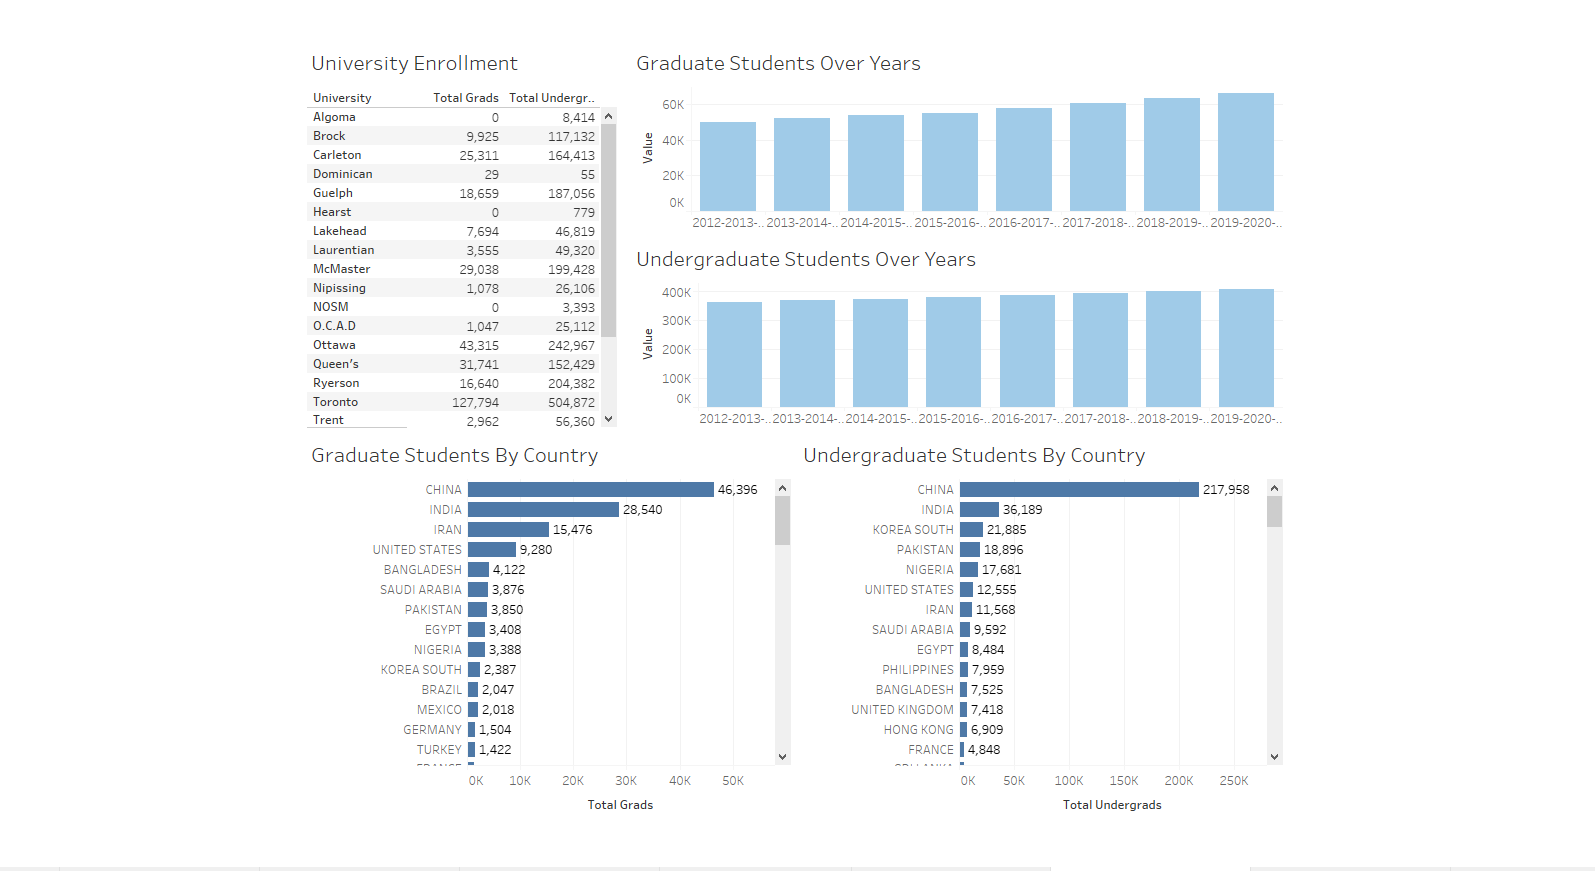

What the dashboard file says about the page in this screenshot:
{"tool":"tableau","page":{"name":"Enrollment by Country and University","canvas":[1000,800],"ordinal":0},"visuals":[{"type":"worksheet","title":"University Enrollment","mark":"Automatic","box":[8,8,325,392]},{"type":"worksheet","title":"Graduate Students Over Years","mark":"Automatic","box":[333,8,659,196]},{"type":"worksheet","title":"Undergraduate Students Over Years","mark":"Automatic","box":[333,204,659,196]},{"type":"worksheet","title":"Graduate Students By Country","mark":"Automatic","cols":["Calculation_419960714268610561"],"box":[8,400,492,392]},{"type":"worksheet","title":"Undergraduate Students By Country","mark":"Automatic","cols":["Calculation_419960714291351554"],"box":[500,400,492,392]}]}

Visuals, with their boxes on the page's 1000x800 design canvas (x1, y1, x2, y2). These are canvas units, not pixel positions in the 1595x871 screenshot, which may show the page scaled, cropped or inside an application window:
"University Enrollment" worksheet: left=8, top=8, right=333, bottom=400
"Graduate Students Over Years" worksheet: left=333, top=8, right=992, bottom=204
"Undergraduate Students Over Years" worksheet: left=333, top=204, right=992, bottom=400
"Graduate Students By Country" worksheet: left=8, top=400, right=500, bottom=792
"Undergraduate Students By Country" worksheet: left=500, top=400, right=992, bottom=792
